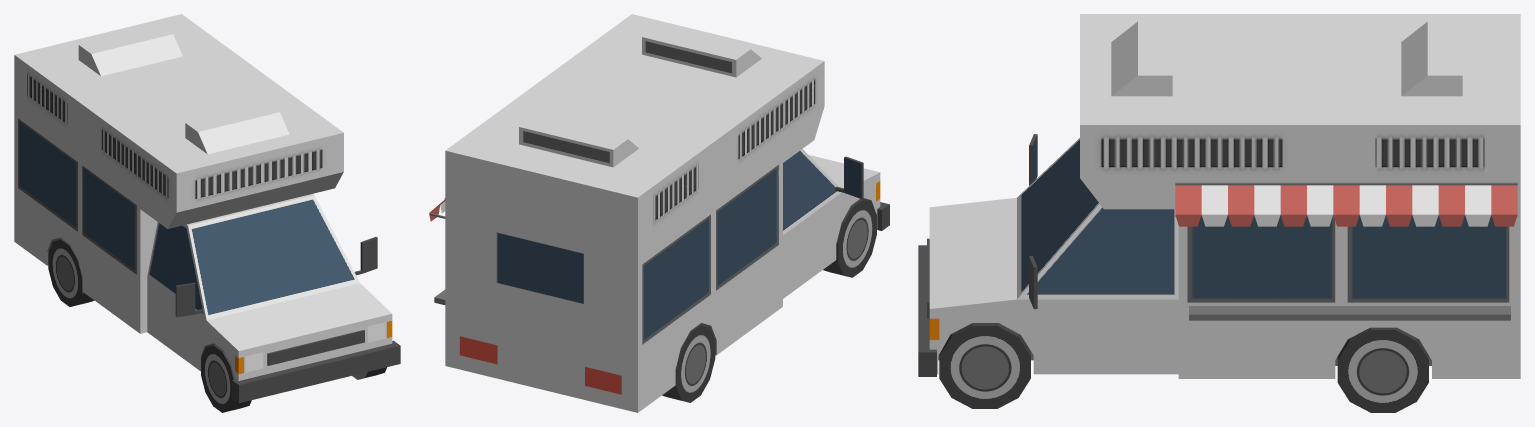
The model's file is FoodTruck.fbx.
3 views of the same model, side by side, from view 1: azimuth 30°, elevation 25°; view 2: azimuth 150°, elevation 25°; view 3: azimuth 270°, elevation 25° (orthographic). The views are drawn at different scales.
Parts seen in each view (by area): view 1: FoodTruck; view 2: FoodTruck; view 3: FoodTruck.
Boxes of the visible parts, x1,y1,x2,y2 form: FoodTruck: (14,14,400,412); FoodTruck: (429,14,889,412); FoodTruck: (918,14,1520,412).
Bounding box in the file's own units: 283 × 306 × 540.
